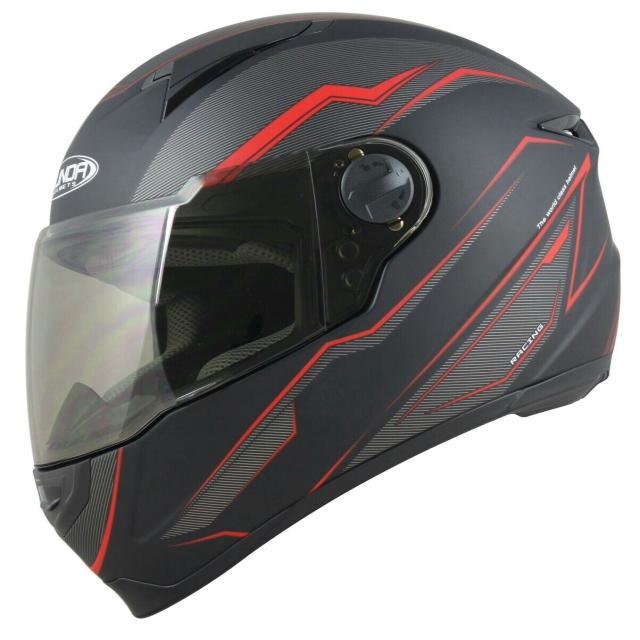Helmet: (13, 0, 634, 626)
